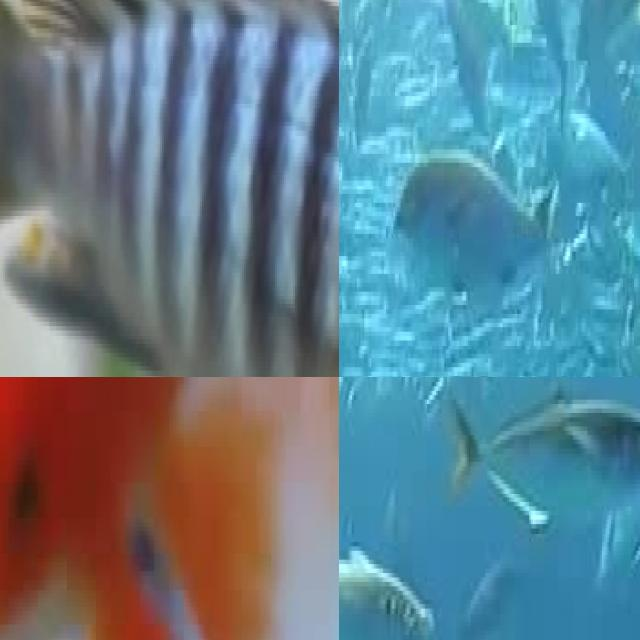fish: (0, 0, 339, 377), (339, 542, 452, 640)
